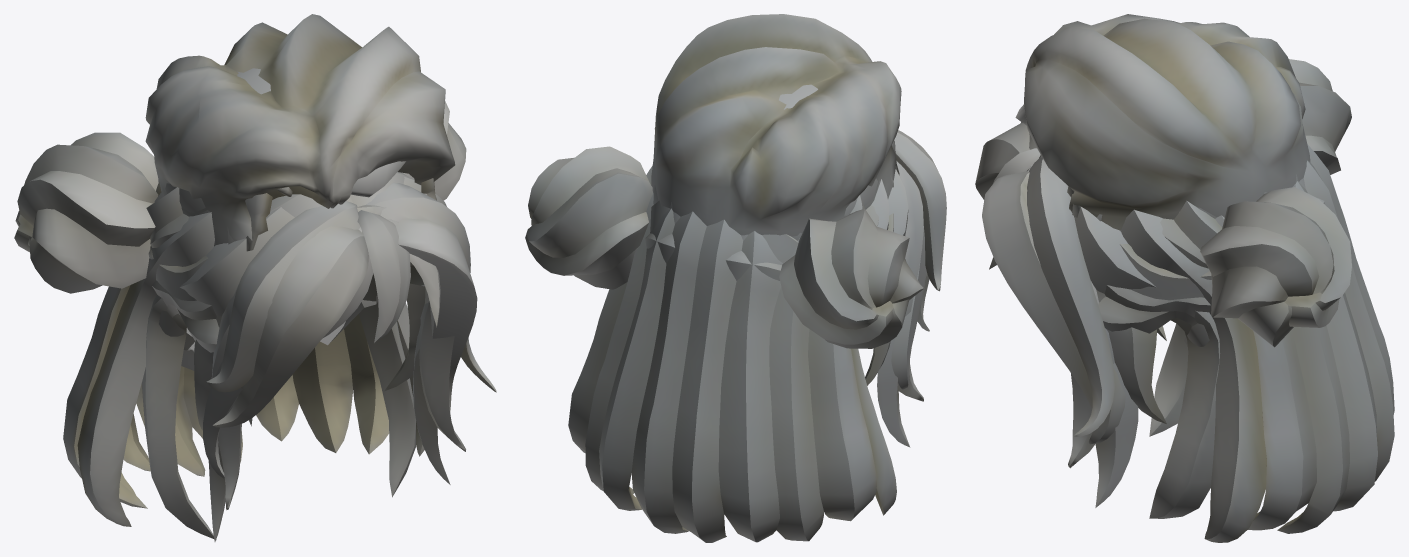
The model's file is hairstyles.glb.
3 renders of one model, left to right at view 1: azimuth 30°, elevation 25°; view 2: azimuth 150°, elevation 25°; view 3: azimuth 270°, elevation 25°, orthographic. The views are drawn at different scales.
Parts seen in each view (by area): view 1: Hair_Long, Hair_SimpleParted, Hair_Buns, Hair_Buzzed; view 2: Hair_Long, Hair_SimpleParted, Hair_Buns, Hair_Buzzed; view 3: Hair_Long, Hair_SimpleParted, Hair_Buns.
Boxes of the visible parts, bbox=[...] form: Hair_Long: bbox=[63, 172, 496, 539]; Hair_SimpleParted: bbox=[145, 14, 455, 244]; Hair_Buns: bbox=[14, 101, 466, 541]; Hair_Buzzed: bbox=[161, 68, 436, 251]; Hair_Long: bbox=[568, 130, 946, 542]; Hair_SimpleParted: bbox=[651, 14, 901, 236]; Hair_Buns: bbox=[525, 146, 923, 447]; Hair_Buzzed: bbox=[653, 84, 899, 240]; Hair_Long: bbox=[975, 122, 1394, 542]; Hair_SimpleParted: bbox=[1024, 14, 1310, 230]; Hair_Buns: bbox=[989, 59, 1351, 507].
Size of the model in its own units: 0.3015 by 0.3389 by 0.2704.
4 materials, 4 textured.
